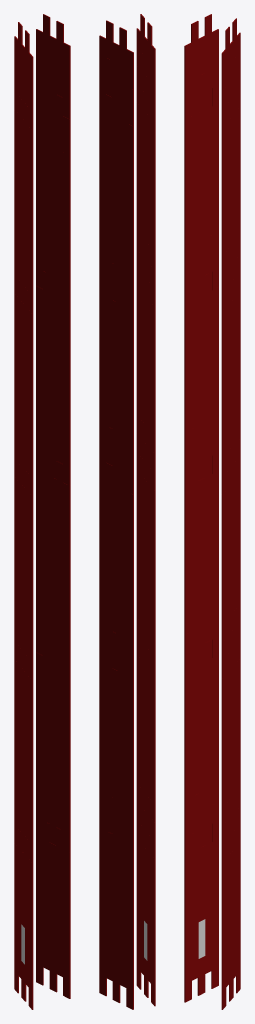
Rendered from morebricks.dae.
3 renders of one model, left to right at view 1: azimuth 30°, elevation 25°; view 2: azimuth 210°, elevation 25°; view 3: azimuth 330°, elevation 25°, orthographic.
Visible parts, largest first — view 1: Cube.014, Cube.384, Cube.392, Cube.345, Cube.340, Cube.066, Cube.007, Cube.002, Cube.147, Cube.144, Cube.107, Cube.106 (+145 smaller); view 2: Cube.014, Cube.544, Cube.396, Cube.392, Cube.504, Cube.300, Cube.260, Cube.227, Cube.220, Cube.187, Cube.180, Cube.075 (+172 smaller); view 3: Cube.044, Cube.372, Cube.364, Cube.327, Cube.326, Cube.127, Cube.087, Cube.080, Cube.031, Cube.000, Cube.036, Cube.016 (+145 smaller).
Boxes of the visible parts, x1,y1,x2,y2 form: Cube.014: [49, 952, 57, 992]; Cube.384: [63, 42, 70, 82]; Cube.392: [49, 35, 56, 75]; Cube.345: [63, 189, 70, 229]; Cube.340: [63, 79, 70, 119]; Cube.066: [63, 702, 70, 742]; Cube.007: [63, 922, 70, 962]; Cube.002: [63, 812, 70, 852]; Cube.147: [63, 299, 70, 339]; Cube.144: [63, 409, 70, 449]; Cube.107: [63, 482, 70, 522]; Cube.106: [63, 519, 70, 559]; Cube.014: [112, 963, 120, 1002]; Cube.544: [126, 49, 133, 89]; Cube.396: [119, 27, 126, 67]; Cube.392: [112, 42, 119, 82]; Cube.504: [126, 233, 133, 273]; Cube.300: [126, 270, 133, 310]; Cube.260: [126, 454, 133, 494]; Cube.227: [126, 675, 133, 715]; Cube.220: [126, 638, 133, 678]; Cube.187: [126, 859, 133, 899]; Cube.180: [126, 822, 133, 862]; Cube.075: [112, 668, 119, 708]; Cube.044: [197, 956, 205, 995]; Cube.372: [198, 36, 205, 75]; Cube.364: [184, 42, 191, 82]; Cube.327: [184, 116, 191, 156]; Cube.326: [184, 153, 191, 193]; Cube.127: [184, 300, 191, 340]; Cube.087: [184, 484, 191, 524]; Cube.080: [184, 447, 191, 487]; Cube.031: [184, 668, 191, 708]; Cube.000: [184, 631, 191, 671]; Cube.036: [184, 962, 191, 1002]; Cube.016: [184, 815, 191, 855].
Bounding box in the file's own units: 8.96 × 10.46 × 217.
